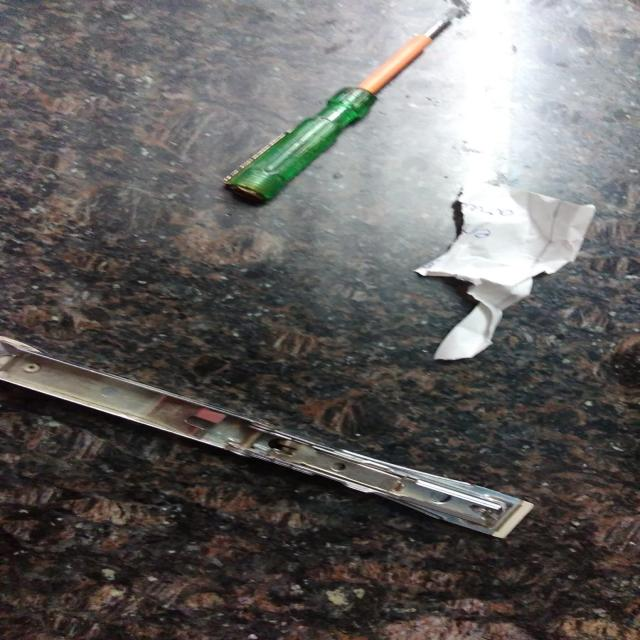dry: (1, 382, 572, 604), (97, 1, 487, 204), (424, 203, 622, 371)
